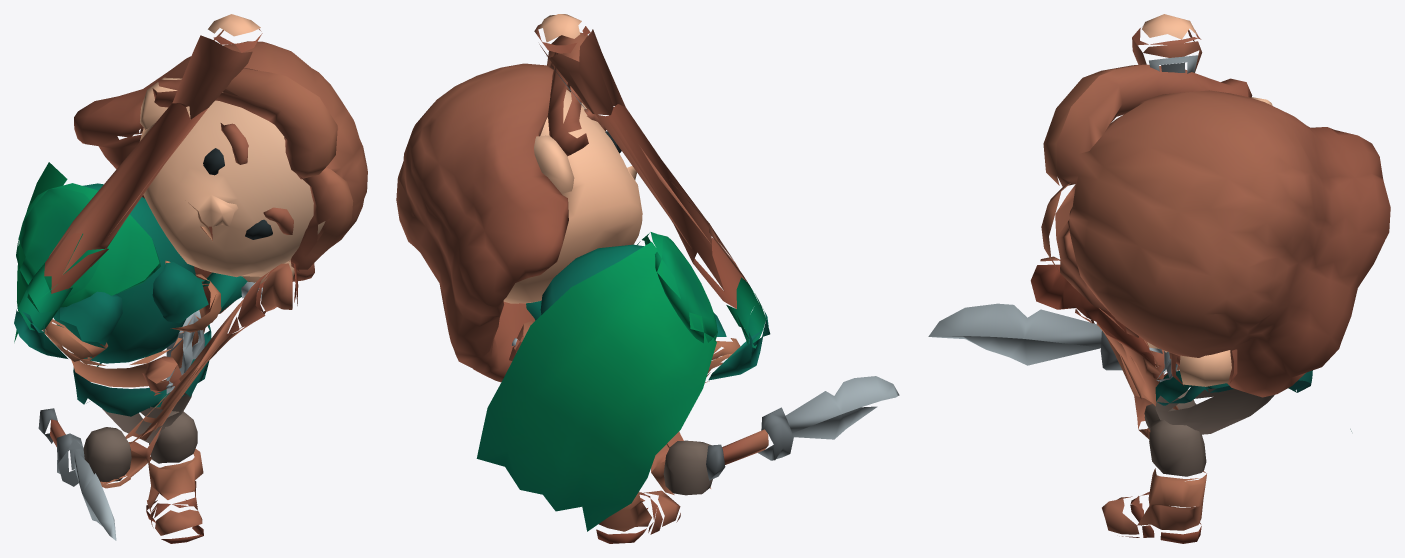
The model's file is enemy_grunt.glb.
3 views of the same model, side by side, from view 1: azimuth 30°, elevation 25°; view 2: azimuth 150°, elevation 25°; view 3: azimuth 270°, elevation 25° (orthographic). The views are drawn at different scales.
Visible parts, largest first — view 1: grunt; view 2: grunt; view 3: grunt.
Boxes of the visible parts, box(x1,y1,x2,y2) form: grunt: box(14, 14, 367, 543); grunt: box(396, 14, 899, 543); grunt: box(928, 14, 1390, 543).
Size of the model in its own units: 0.8127 by 1.05 by 0.7993.
Materials: 1 (1 with a texture image).
